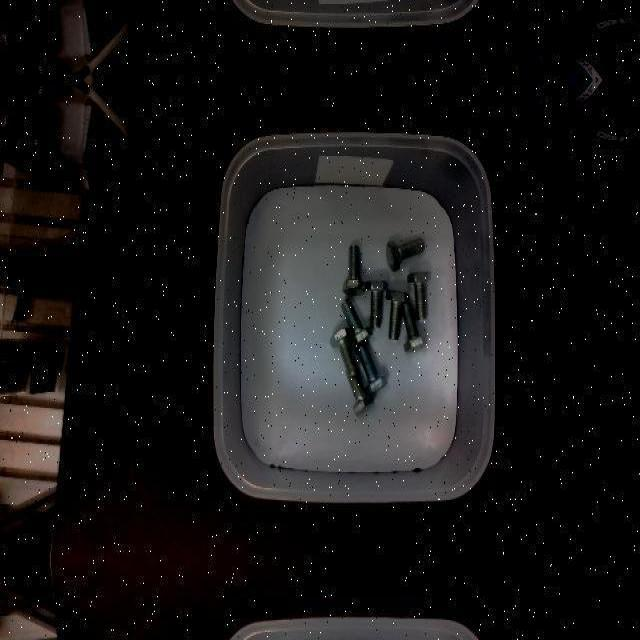screw: (340, 298, 372, 348), (357, 344, 387, 396), (330, 327, 358, 377), (385, 237, 425, 271), (402, 301, 427, 353), (342, 245, 366, 297), (407, 270, 431, 320), (386, 291, 409, 339), (365, 280, 387, 326)
